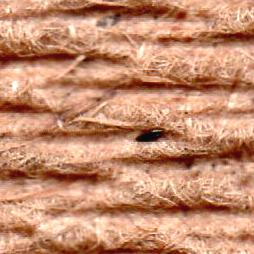egg: (136, 130, 163, 141)
